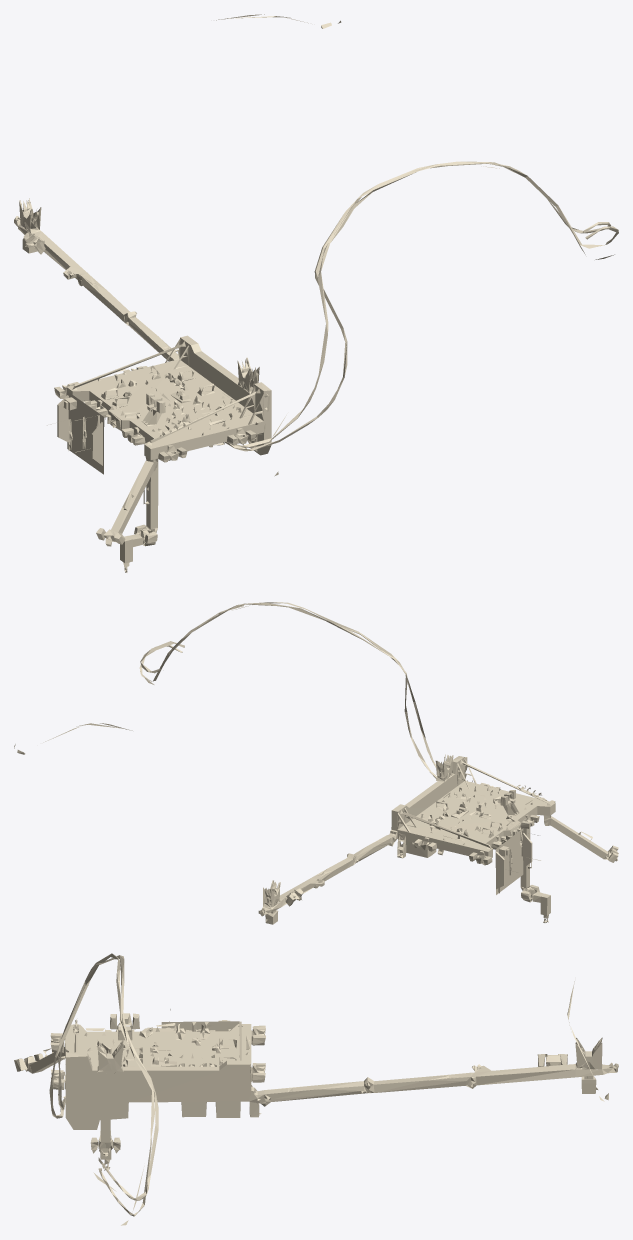
Rendered from bartolomeo.glb.
3 renders of one model, top to bottom at view 1: azimuth 30°, elevation 25°; view 2: azimuth 150°, elevation 25°; view 3: azimuth 270°, elevation 25°, orthographic. The views are drawn at different scales.
Visible parts, largest first — view 1: Payload_m-NLP; view 2: Payload_m-NLP; view 3: Payload_m-NLP.
Part boxes in pixels (x1,y1,x2,y2): Payload_m-NLP: (14,14,618,572); Payload_m-NLP: (14,602,618,924); Payload_m-NLP: (14,953,618,1225).
Size of the model in its own units: 0.7398 by 0.4146 by 0.6298.
